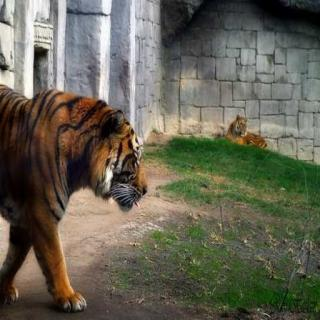Tiger: (0, 82, 171, 320)
